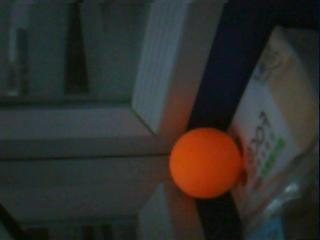oball: (169, 127, 243, 199)
